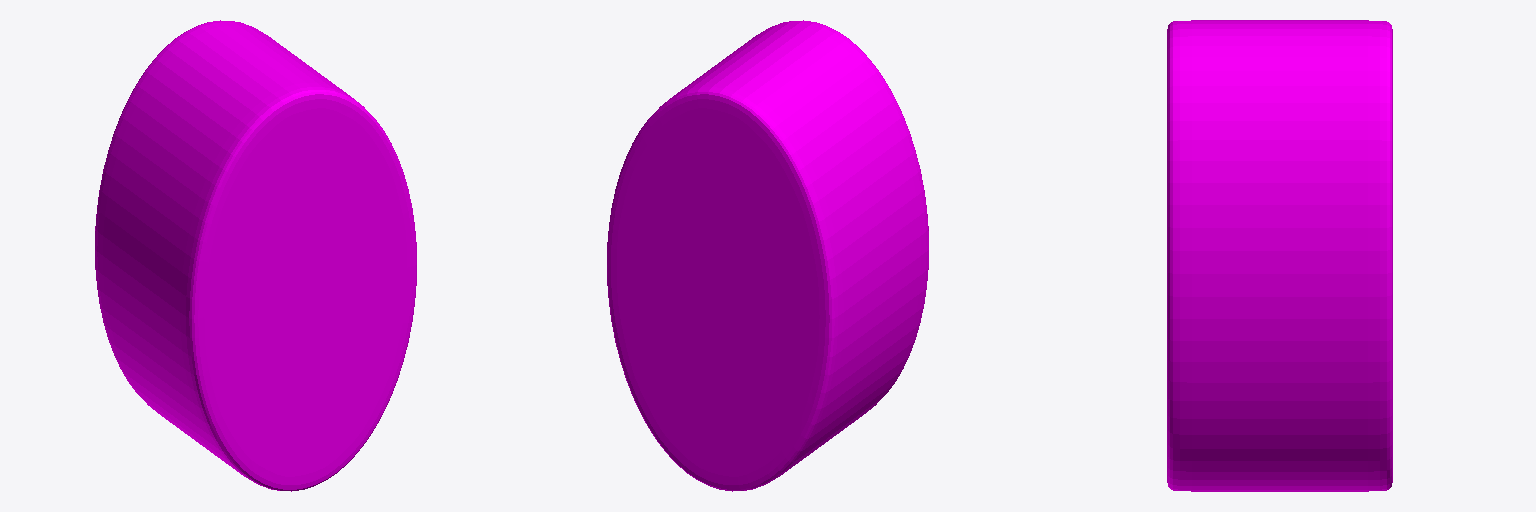
robot.urdf — p7.urdf:
<?xml version="0.0" ?>
<robot name="p7.urdf">
  <link name="baseLink">
    <contact>
      <lateral_friction value="1.0"/>
  <!--     <rolling_friction value="0.0"/>
      <spinning_friction value="0.01">
      <inertia_scaling value="3.0"/>
      <contact_cfm value="0.0"/>
      <contact_erp value="1.0"/> -->
    </contact>
    <inertial>
      <origin rpy="0 0 0" xyz="0 0 0"/>
       <mass value=".09"/>
       <inertia ixx="1" ixy="0" ixz="0" iyy="1" iyz="0" izz="1"/>
    </inertial>
    <visual>
      <origin rpy="0 0 0" xyz="0 0 0"/>
        <geometry>
      <mesh filename="P7.obj" scale=".06 .06 .06"/>
        </geometry>
        <material name="purple">
          <color rgba="1 0 1 1"/>
        </material>
    </visual>
    <collision>
        <origin rpy="0 0 0" xyz="0 0 0"/>
        <geometry>
          <mesh filename="P7.obj" scale=".06 .06 .06"/>
        </geometry>
    </collision>
  </link>
</robot>

--- What the picture shows (computed from the rendered views, not written in the file) ---
The picture shows the robot from 3 angles, left to right: view 1: azimuth 30°, elevation 25°; view 2: azimuth 150°, elevation 25°; view 3: azimuth 270°, elevation 25°; orthographic projection.
Robot: p7.urdf — 1 links, 0 joints (none); root link baseLink; default pose: all joints at 0.
Links seen in each view (by area): view 1: baseLink; view 2: baseLink; view 3: baseLink.
Boxes of the visible links, x1,y1,x2,y2 form: baseLink: [95, 20, 416, 491]; baseLink: [607, 20, 928, 491]; baseLink: [1167, 20, 1392, 491].
Bounding box of the posed robot: 0.158 × 0.1191 × 0.2636 m (x, y, z).
Meshes: 1 distinct files referenced, 1 mesh visuals loaded (1 OBJ).